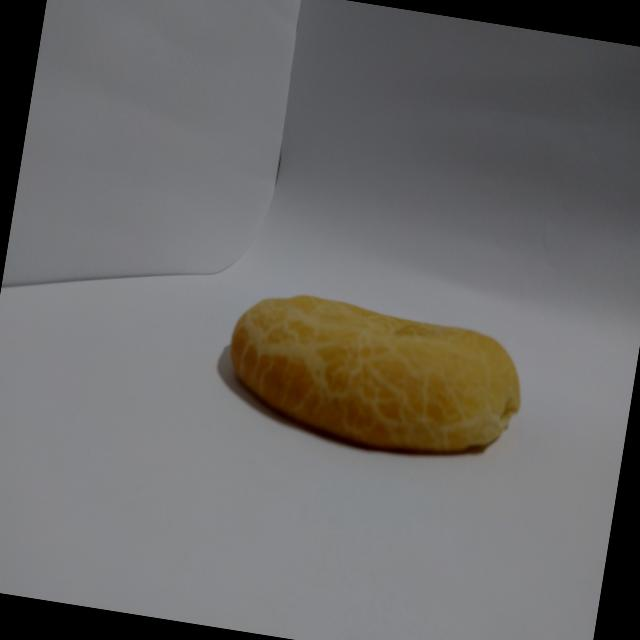Chipa: (200, 271, 540, 491)
